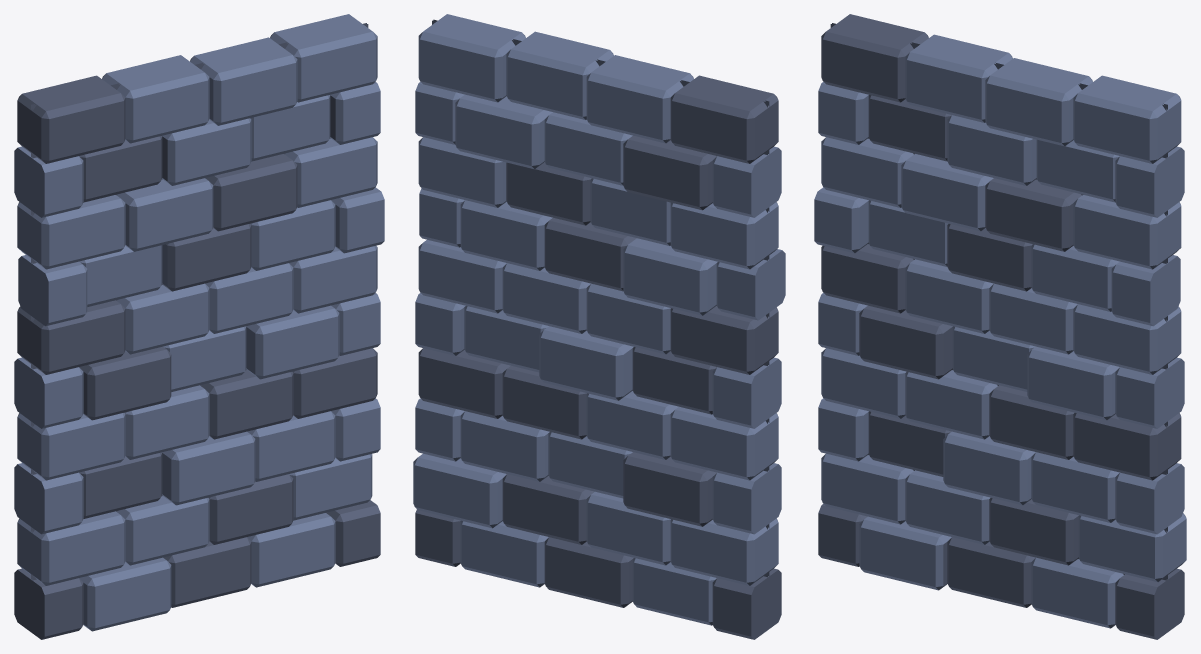
File: wall_001.glb
3 views of the same model, side by side, from view 1: azimuth 30°, elevation 25°; view 2: azimuth 150°, elevation 25°; view 3: azimuth 330°, elevation 25° (orthographic).
Parts seen in each view (by area): view 1: wall.001; view 2: wall.001; view 3: wall.001.
Boxes of the visible parts, x1,y1,x2,y2 form: wall.001: [14, 14, 384, 639]; wall.001: [413, 14, 785, 639]; wall.001: [814, 14, 1186, 639].
Bounding box in the file's own units: 2 × 3 × 0.407.
